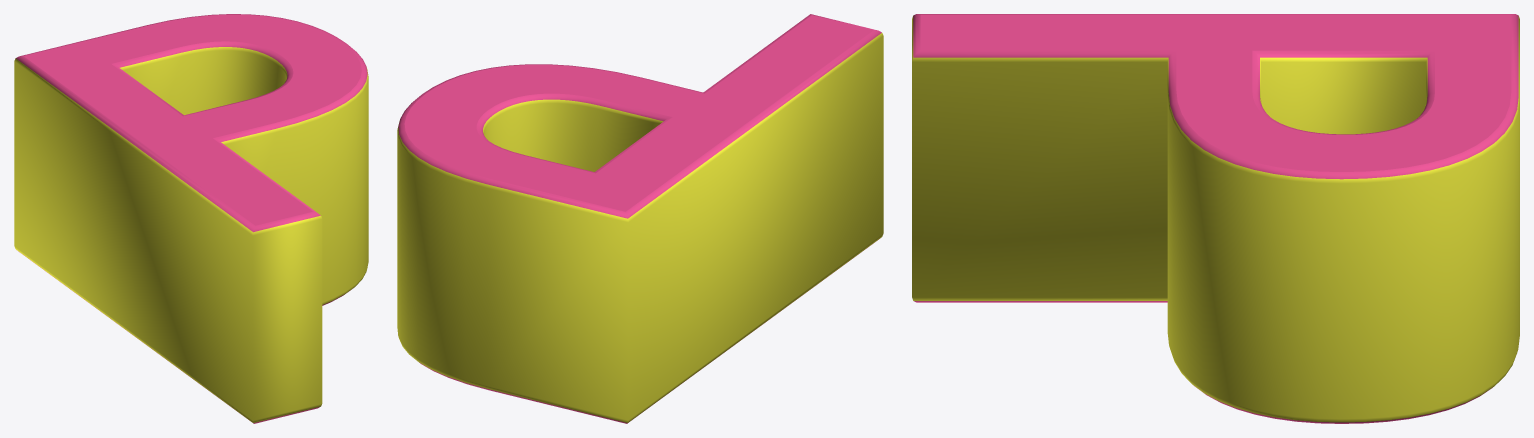
File: letter_P.fbx
3 renders of one model, left to right at view 1: azimuth 30°, elevation 25°; view 2: azimuth 150°, elevation 25°; view 3: azimuth 270°, elevation 25°, orthographic. The views are drawn at different scales.
Visible parts, largest first — view 1: Letter_P; view 2: Letter_P; view 3: Letter_P.
Boxes of the visible parts, x1,y1,x2,y2 form: Letter_P: (14, 14, 368, 423); Letter_P: (397, 14, 883, 423); Letter_P: (912, 14, 1519, 423).
Bounding box in the file's own units: 45 × 32 × 70.2.
